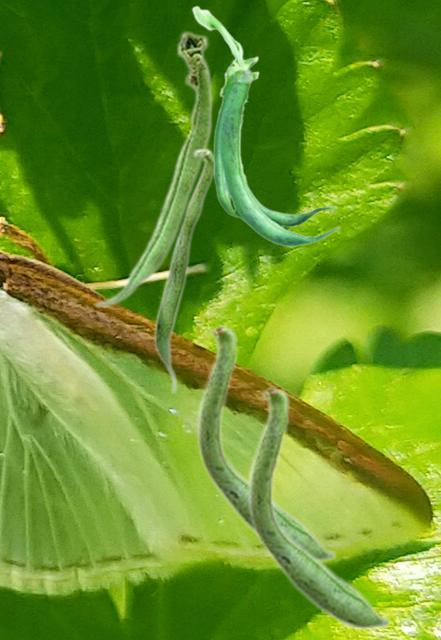french_bean: (191, 5, 339, 246), (247, 383, 391, 630), (196, 322, 336, 563), (93, 29, 212, 308), (153, 147, 215, 394)
